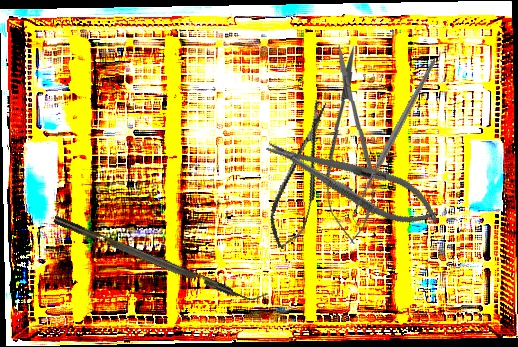Chopper: (52, 205, 269, 311)
Hook Surgical: (303, 58, 488, 226)
Micro Scissor: (260, 97, 344, 254), (320, 43, 378, 245)
Needle Holder: (258, 123, 448, 239)
